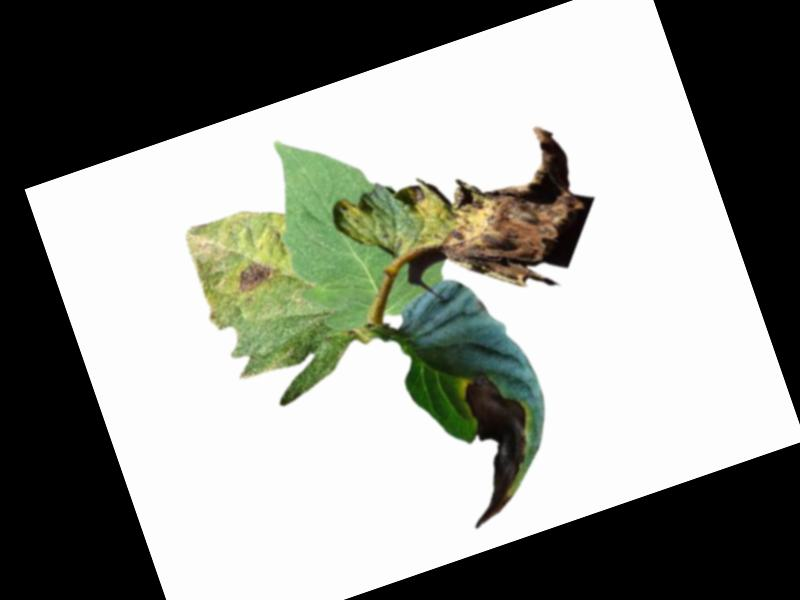Early_blight: (386, 117, 604, 318), (426, 360, 560, 528), (232, 257, 278, 293)
